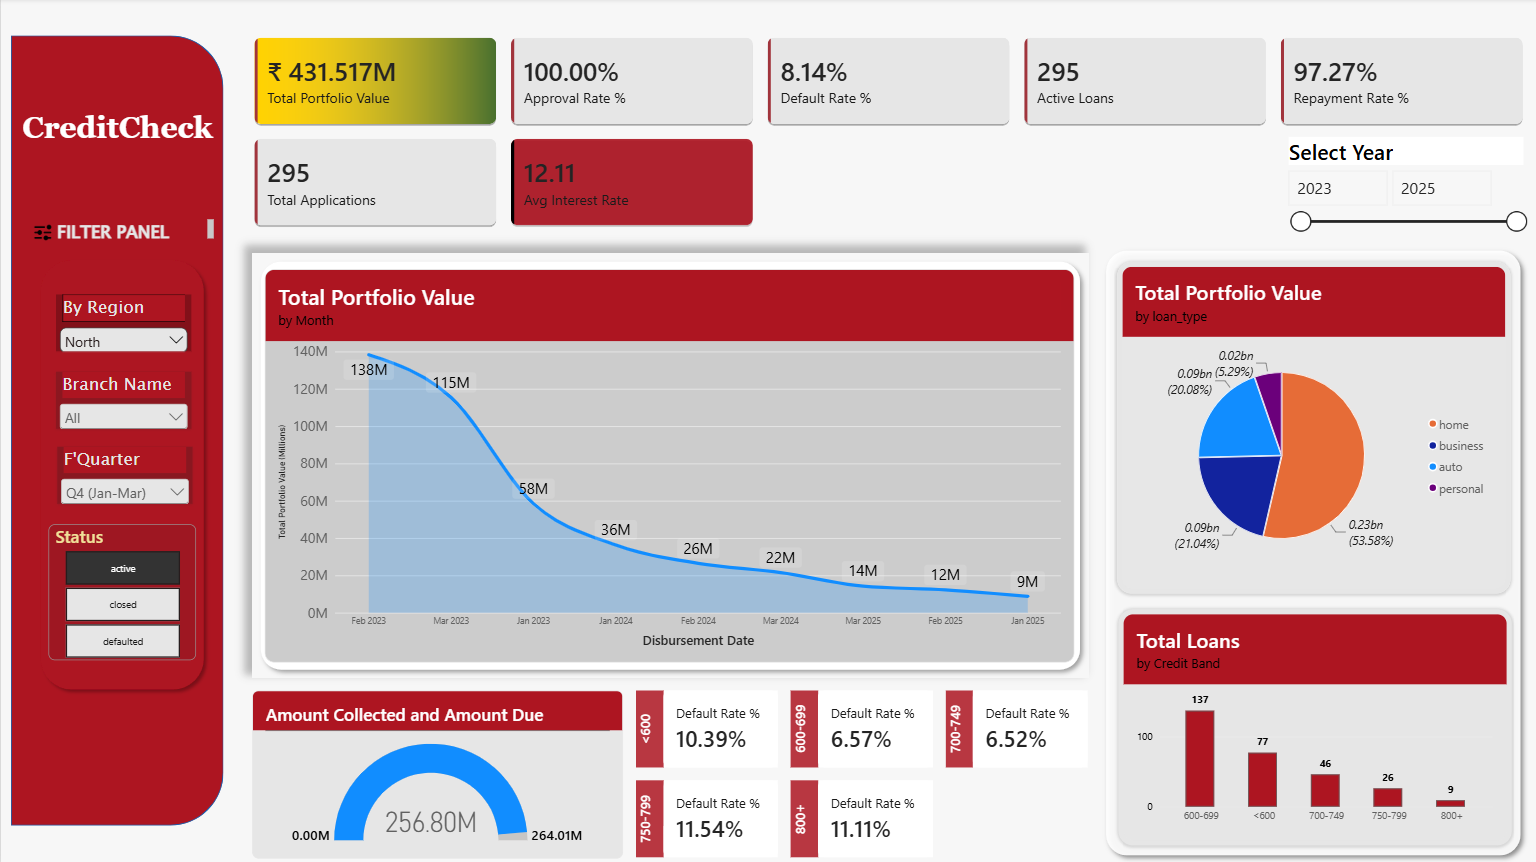

What the dashboard file says about the page in this screenshot:
{"tool":"powerbi","page":{"name":"Page 1","canvas":[1920,1080],"ordinal":0},"visuals":[{"type":"shape","box":[12.5,46.8,265,985.2],"z":0},{"type":"shape","box":[40.5,318,221.4,553.4],"z":1000},{"type":"slicer","fields":{"Values":["branches.region"]},"box":[68,369.8,169.2,71.5],"z":2000},{"type":"slicer","fields":{"Values":["branches.branch_name"]},"box":[68,465.7,169.2,71.5],"z":3000},{"type":"slicer","fields":{"Values":["loans.status"]},"box":[59.3,655.8,184,169.9],"z":4000},{"type":"textbox","box":[26.5,140.3,252.5,53],"z":5000},{"type":"textbox","box":[1324,619,150,413],"z":6000},{"type":"textbox","box":[70.2,275.9,194.9,28.1],"z":7000},{"type":"image","box":[40.5,271.2,23.4,42.1],"z":8000},{"type":"cardVisual","fields":{"Data":["loans.Total Portfolio Value","loan_applications.Approval Rate %","loans.Default Rate %","loans.Active Loans","repayments.Repayment Rate %","loan_applications.Total Applications","loans.Avg Interest Rate"]},"box":[314,47.1,1591.6,240],"z":9000},{"type":"shape","box":[1367.4,303.5,539,776.2],"z":10000},{"type":"pieChart","fields":{"Category":["loans.loan_type"],"Y":["loans.Total Portfolio Value"]},"box":[1391.9,329.7,490.1,413.4],"z":11000},{"type":"clusteredColumnChart","fields":{"Category":["customers.Credit Band"],"Y":["branches.Total Loans"]},"box":[1393.6,762.2,490.1,294.8],"z":12000},{"type":"shape","box":[314,317.4,1043,530.2],"z":13000},{"type":"areaChart","fields":{"Category":["Dates.Month"],"Y":["loans.Total Portfolio Value"]},"box":[329.7,338.4,1009.9,490.1],"z":14000},{"type":"slicer","fields":{"Values":["Dates.Financial Quarter"]},"box":[69.8,559.9,169.2,71.5],"z":15000},{"type":"cardVisual","fields":{"Data":["loans.Default Rate %"],"Rows":["customers.Credit Band"]},"box":[791.9,863.4,565.1,209.3],"z":16000},{"type":"slicer","fields":{"Values":["Dates.Year"]},"box":[1597.7,172.7,308.7,223.3],"z":17000},{"type":"gauge","fields":{"MaxValue":["repayments.Amount Due"],"Y":["repayments.Amount Collected"]},"box":[314,863.4,462.2,209.3],"z":18000}]}

Visuals, with their boxes in screenshot pixels (x1, y1, x2, y2), scaled from the page's 1920x1080 canvas onto the 1536x862 screenshot:
shape: (10,37,222,824)
shape: (32,254,210,696)
slicer - branches.region: (54,295,190,352)
slicer - branches.branch_name: (54,372,190,429)
slicer - loans.status: (47,523,195,659)
textbox: (21,112,223,154)
textbox: (1059,494,1179,824)
textbox: (56,220,212,243)
image: (32,216,51,250)
cardVisual - loans.Total Portfolio Value x loan_applications.Approval Rate %: (251,38,1524,229)
shape: (1094,242,1525,861)
pieChart - loans.loan_type x loans.Total Portfolio Value: (1114,263,1506,593)
clusteredColumnChart - customers.Credit Band x branches.Total Loans: (1115,608,1507,844)
shape: (251,253,1086,677)
areaChart - Dates.Month x loans.Total Portfolio Value: (264,270,1072,661)
slicer - Dates.Financial Quarter: (56,447,191,504)
cardVisual - loans.Default Rate % x customers.Credit Band: (634,689,1086,856)
slicer - Dates.Year: (1278,138,1525,316)
gauge - repayments.Amount Due x repayments.Amount Collected: (251,689,621,856)
